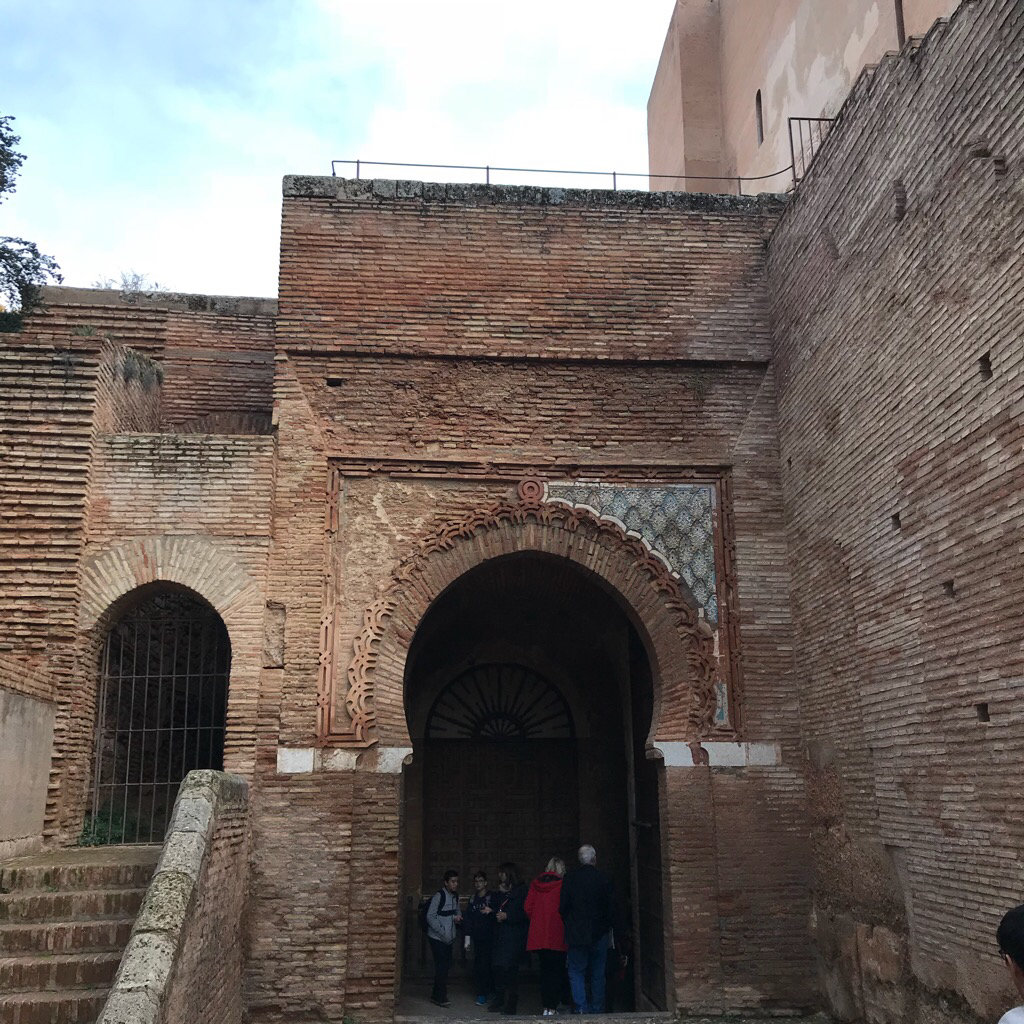arco-herradura: (390, 539, 680, 797)
arco-medio-punto: (80, 569, 242, 677)
